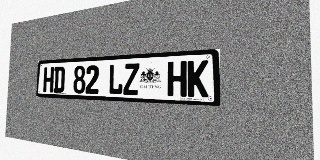2: (85, 65, 99, 94)
8: (73, 65, 86, 94)
D: (53, 66, 65, 93)
H: (167, 61, 187, 97), (43, 67, 54, 93)
K: (187, 60, 208, 97)
L: (108, 64, 123, 95)
Z: (123, 63, 139, 95)
